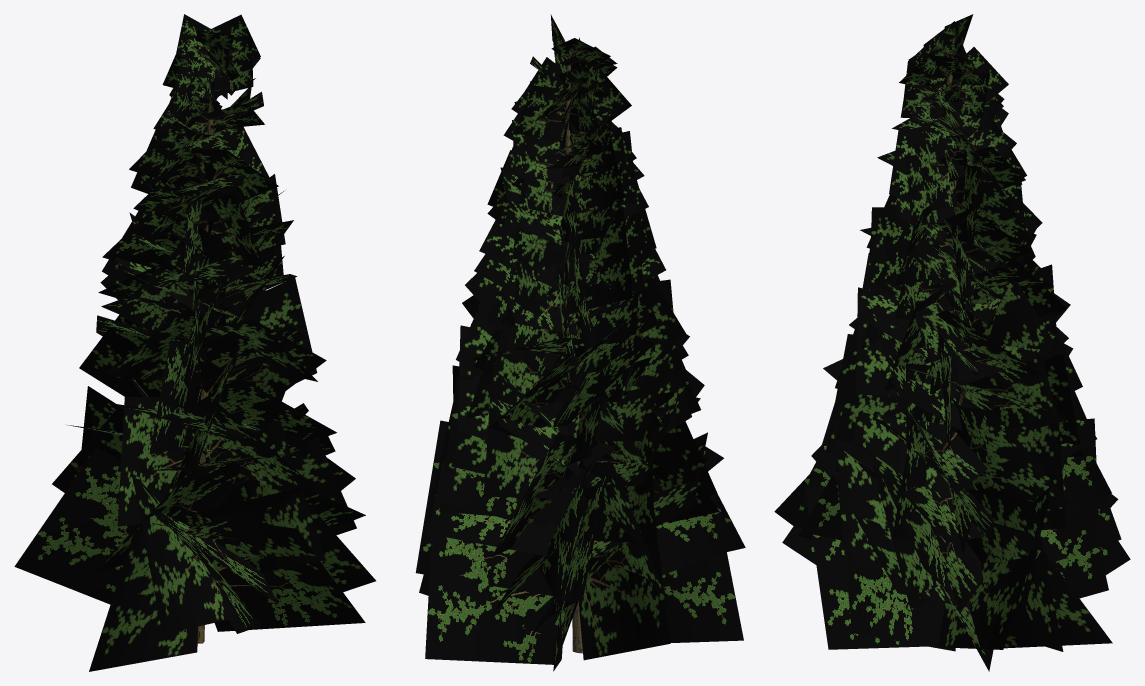
3 renders of one model, left to right at view 1: azimuth 30°, elevation 25°; view 2: azimuth 150°, elevation 25°; view 3: azimuth 270°, elevation 25°, orthographic.
Parts seen in each view (by area): view 1: a; view 2: a; view 3: a.
Part boxes in pixels (x1,y1,x2,y2): a: [14, 14, 375, 671]; a: [415, 14, 745, 671]; a: [774, 14, 1130, 671].
Size of the model in its own units: 3.09 by 6.47 by 3.32.
2 materials, 2 textured.
